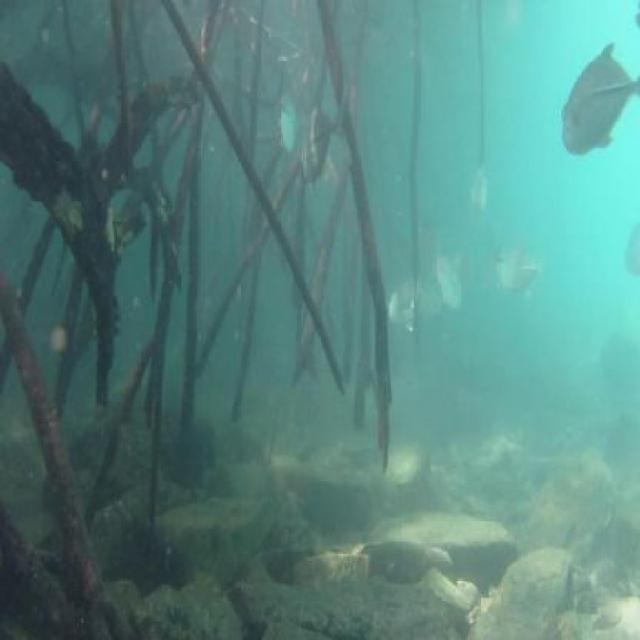Caranx_sexfasciatus_juvenile: (557, 32, 640, 165), (298, 84, 350, 196), (268, 82, 302, 161), (384, 278, 419, 344), (433, 250, 462, 321), (486, 240, 519, 302), (512, 252, 548, 299), (470, 162, 490, 212), (455, 256, 476, 296)
